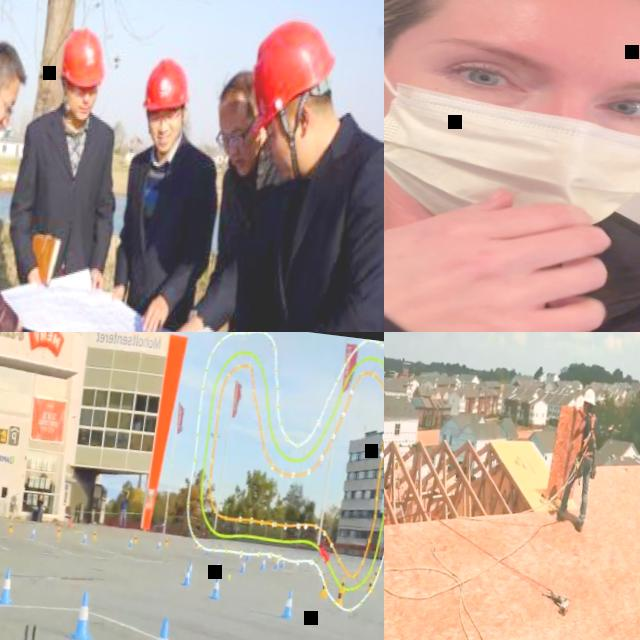Hardhat: (244, 18, 339, 148), (57, 25, 109, 90), (141, 56, 195, 116), (582, 388, 597, 408)
Mask: (384, 42, 640, 247)
NO-Hardhat: (384, 0, 640, 48), (217, 64, 257, 116), (0, 39, 32, 81)
NO-Mask: (267, 140, 305, 180), (228, 141, 258, 178), (151, 125, 180, 156), (65, 98, 92, 124), (582, 405, 587, 413)
NO-Safety Vest: (384, 201, 640, 332), (240, 130, 384, 332), (18, 118, 110, 278), (119, 146, 205, 316), (215, 172, 269, 332), (581, 412, 598, 454)
Person: (384, 0, 640, 332), (198, 17, 384, 332), (0, 19, 139, 332), (84, 51, 237, 332), (164, 63, 297, 332), (0, 30, 58, 332), (555, 386, 603, 534)
Safety Cone: (70, 588, 98, 640), (142, 614, 183, 640), (0, 566, 16, 607), (280, 588, 298, 622), (209, 574, 222, 598), (317, 576, 330, 600), (334, 585, 345, 608), (181, 566, 192, 588), (186, 558, 196, 579), (212, 558, 222, 578), (364, 577, 375, 595), (338, 575, 348, 594), (29, 526, 37, 540), (273, 558, 281, 570), (279, 556, 287, 568), (240, 560, 246, 572), (260, 557, 266, 569), (82, 532, 88, 544), (8, 520, 14, 532), (92, 530, 98, 542), (56, 526, 62, 537), (132, 534, 138, 544), (164, 536, 169, 548), (129, 536, 134, 547), (157, 539, 162, 549), (382, 579, 384, 594)
